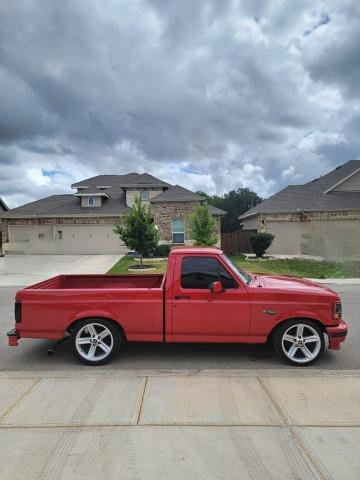pickup-truck: (6, 246, 348, 368)
